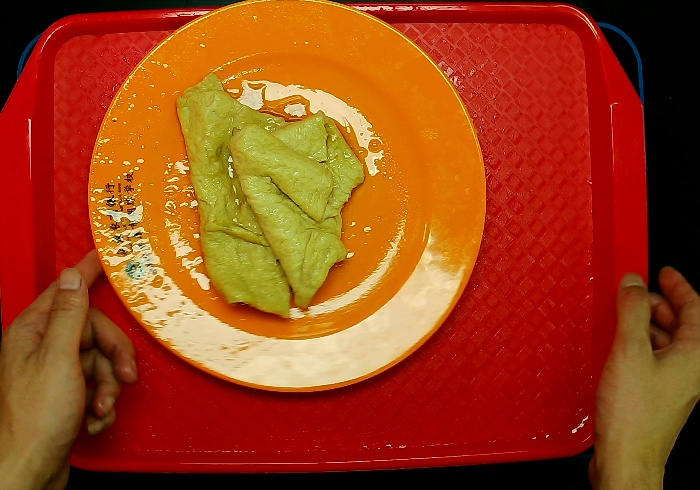YKMZ-Ju_Se_Mian_Pan: (86, 1, 487, 397)
